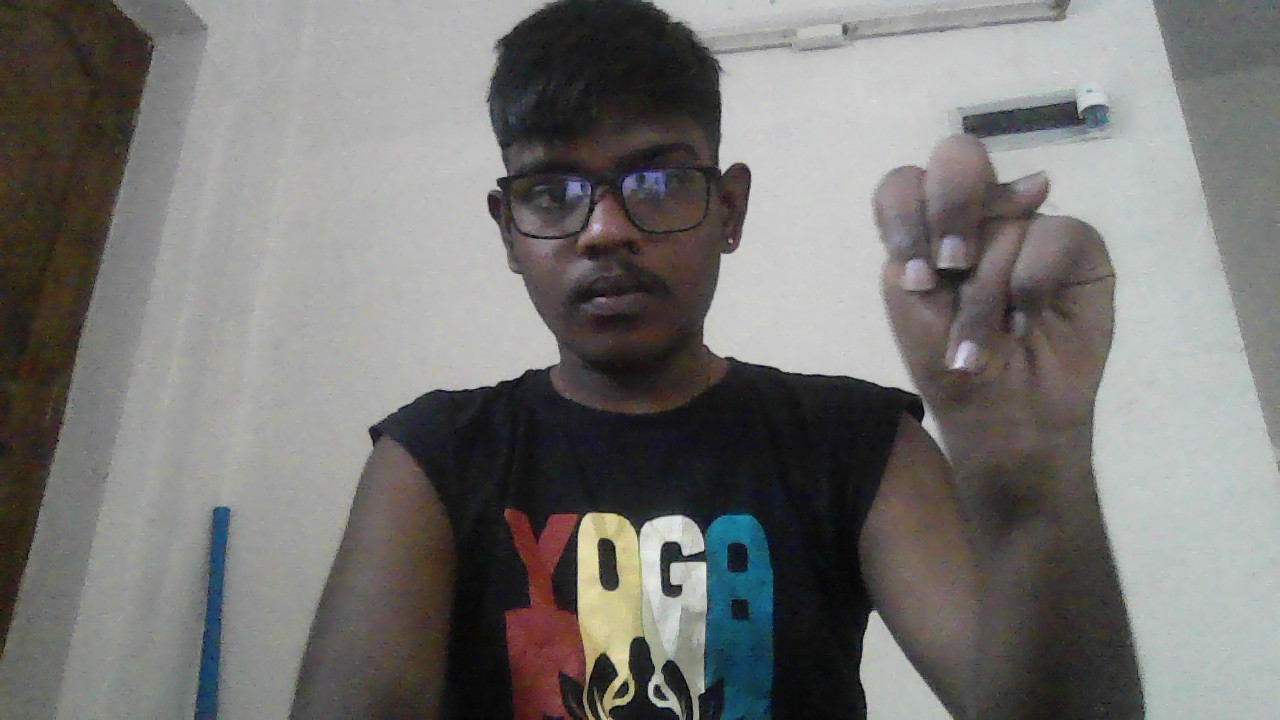N: (873, 133, 1116, 444)
